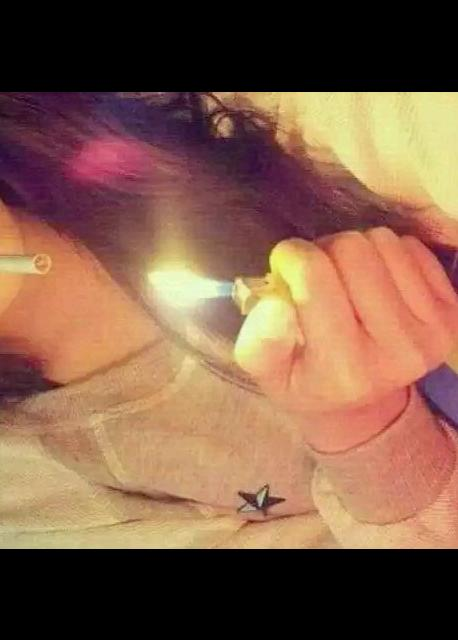Cigarette: (0, 247, 50, 274)
